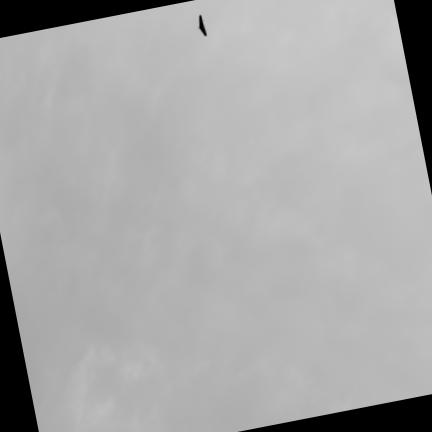Shahed: (197, 14, 206, 37)
